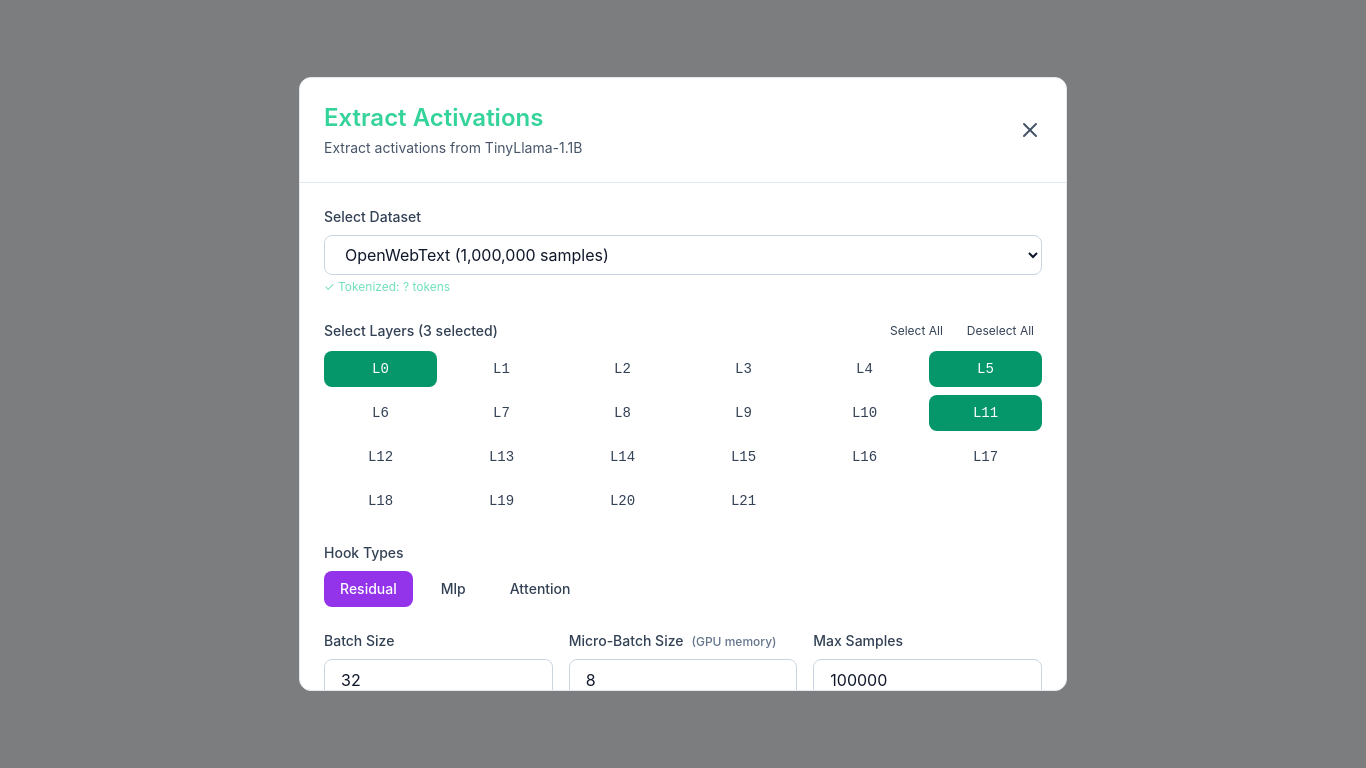
Test: ActivationExtractionConfig › Layer Selection › should select all layers when Select All clicked
Click the button "Select All" at (916, 331), box [882,319,951,343]
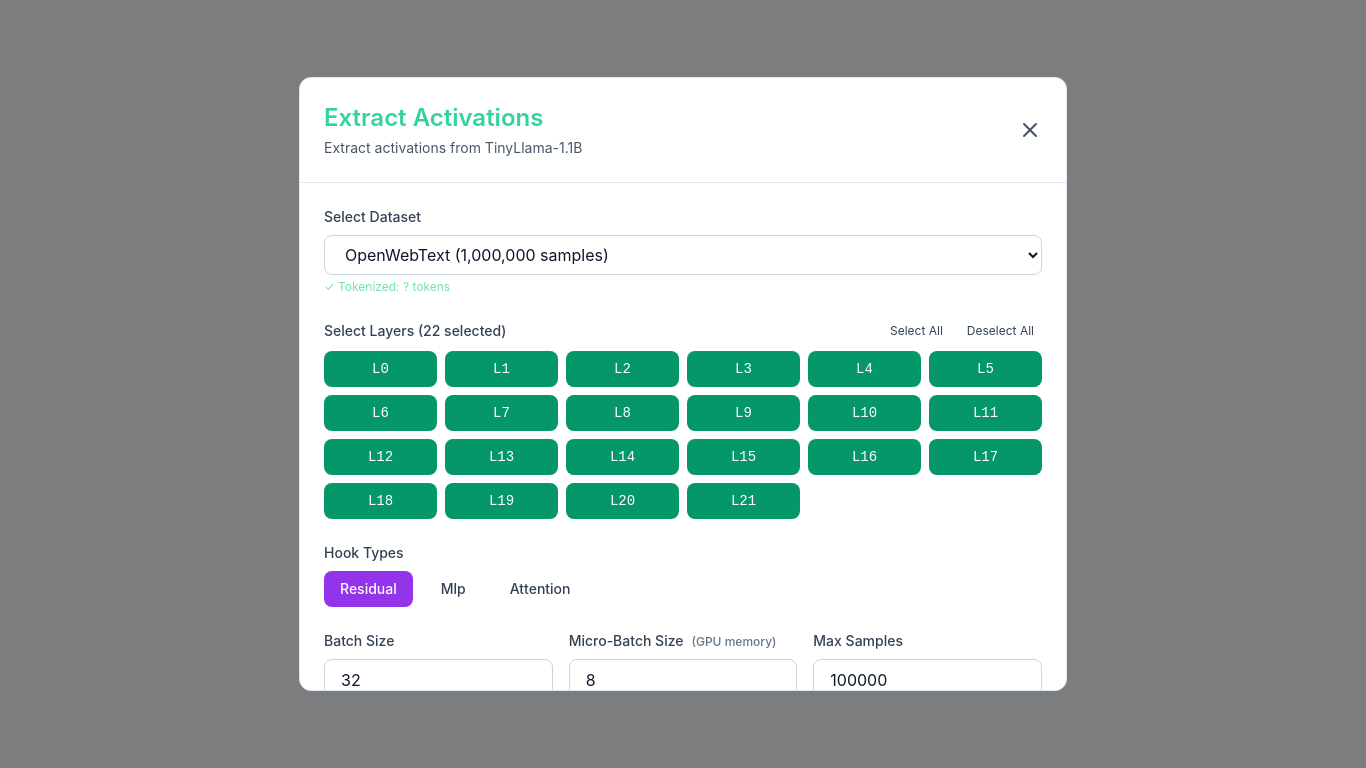
Result: the text "Select Layers (22 selected)" is shown at [324,321,506,341]
